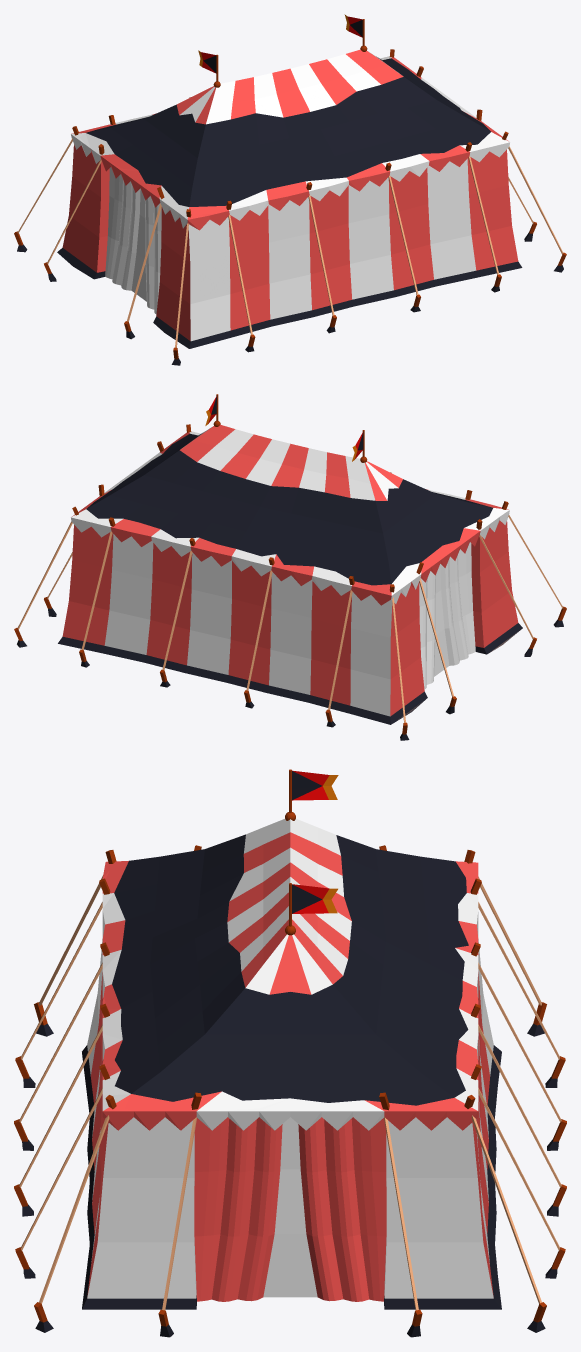
Rendered from Tent4.fbx.
The picture shows the model from 3 angles, top to bottom: view 1: azimuth 30°, elevation 25°; view 2: azimuth 150°, elevation 25°; view 3: azimuth 270°, elevation 25°; orthographic projection. The views are drawn at different scales.
Parts seen in each view (by area): view 1: Tent4; view 2: Tent4; view 3: Tent4.
Part boxes in pixels (bbox=[...]): Tent4: bbox=[14, 14, 566, 365]; Tent4: bbox=[14, 394, 566, 740]; Tent4: bbox=[14, 769, 566, 1337].
Size of what is drawn, in the model's own units: 709 by 366 by 518.
